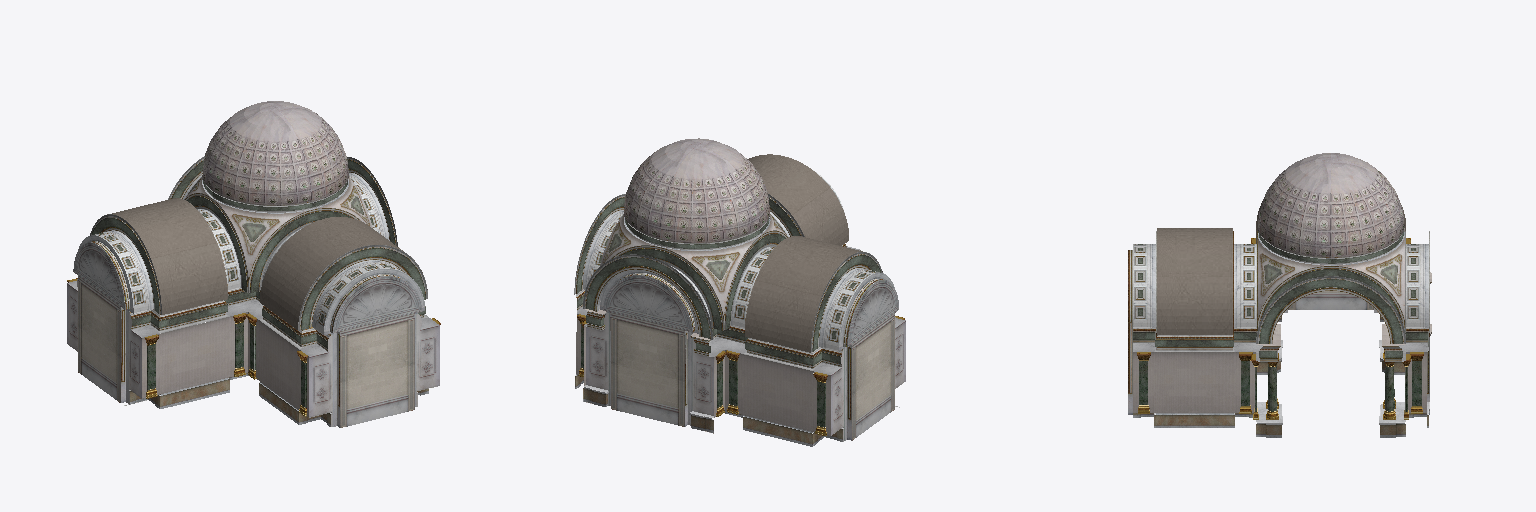
The picture shows the model from 3 angles: view 1: azimuth 30°, elevation 25°; view 2: azimuth 150°, elevation 25°; view 3: azimuth 270°, elevation 25°; orthographic projection.
Visible parts, largest first — view 1: Gang_Cap_Bogen005, Kurve004, Gang_Cap_Bogen004, Gang_Dach_Bogen051, Gang_Wand_Standart084, Gang_Dach_Bogen052, Gang_Endst�ck_Var024, Kurve002, Gang_Endst�ck_Var015, Gang_Wand_Standart085, Kurve003, Gang_Endst�ck_Var018 (+4 smaller); view 2: Gang_Cap_Bogen006, Kurve003, Gang_Cap_Bogen004, Gang_Dach_Bogen051, Gang_Wand_Standart084, Kurve001, Gang_Dach_Bogen052, Gang_Endst�ck_Var015, Gang_Endst�ck_Var020, Gang_Endst�ck_Var021, Gang_Endst�ck_Var016, Kurve004 (+4 smaller); view 3: Kurve002, Kurve001, Gang_Dach_Bogen052, Gang_Wand_Standart085, Gang_Endst�ck_Var024, Gang_Endst�ck_Var021, Gang_Endst�ck_Var023, Gang_Endst�ck_Var017, Gang_Endst�ck_Var016, Gang_Cap_Bogen004, Gang_Cap_Bogen005, Pillar_Flat085 (+6 smaller).
Boxes of the visible parts, <box> form: Gang_Cap_Bogen005: <box>309,269,439,427</box>; Kurve004: <box>211,108,312,378</box>; Gang_Cap_Bogen004: <box>67,235,141,404</box>; Gang_Dach_Bogen051: <box>107,198,227,314</box>; Gang_Wand_Standart084: <box>124,255,230,408</box>; Gang_Dach_Bogen052: <box>260,217,427,329</box>; Gang_Endst�ck_Var024: <box>298,245,438,426</box>; Kurve002: <box>276,106,372,227</box>; Gang_Endst�ck_Var015: <box>68,214,161,408</box>; Gang_Wand_Standart085: <box>258,306,428,423</box>; Kurve003: <box>184,103,275,212</box>; Gang_Endst�ck_Var018: <box>202,214,247,392</box>; Gang_Cap_Bogen006: <box>586,270,713,426</box>; Kurve003: <box>660,146,761,415</box>; Gang_Cap_Bogen004: <box>831,273,905,441</box>; Gang_Dach_Bogen051: <box>745,236,882,352</box>; Gang_Wand_Standart084: <box>742,338,899,446</box>; Kurve001: <box>600,143,696,265</box>; Gang_Dach_Bogen052: <box>748,154,848,245</box>; Gang_Endst�ck_Var015: <box>811,252,905,446</box>; Gang_Endst�ck_Var020: <box>648,256,724,433</box>; Gang_Endst�ck_Var021: <box>583,254,647,406</box>; Gang_Endst�ck_Var016: <box>574,200,620,388</box>; Kurve004: <box>697,140,787,250</box>; Kurve002: <box>1256,160,1330,412</box>; Kurve001: <box>1331,160,1405,412</box>; Gang_Dach_Bogen052: <box>1157,228,1232,334</box>; Gang_Wand_Standart085: <box>1154,335,1235,427</box>; Gang_Endst�ck_Var024: <box>1133,231,1157,427</box>; Gang_Endst�ck_Var021: <box>1406,238,1431,427</box>; Gang_Endst�ck_Var023: <box>1232,238,1255,427</box>; Gang_Endst�ck_Var017: <box>1256,276,1330,437</box>; Gang_Endst�ck_Var016: <box>1331,276,1405,437</box>; Gang_Cap_Bogen004: <box>1284,291,1377,312</box>; Gang_Cap_Bogen005: <box>1128,250,1132,414</box>; Pillar_Flat085: <box>1410,352,1423,413</box>.
Bounding box in the file's own units: 16.74 × 14.25 × 16.62.
Materials: 4 (4 with a texture image).